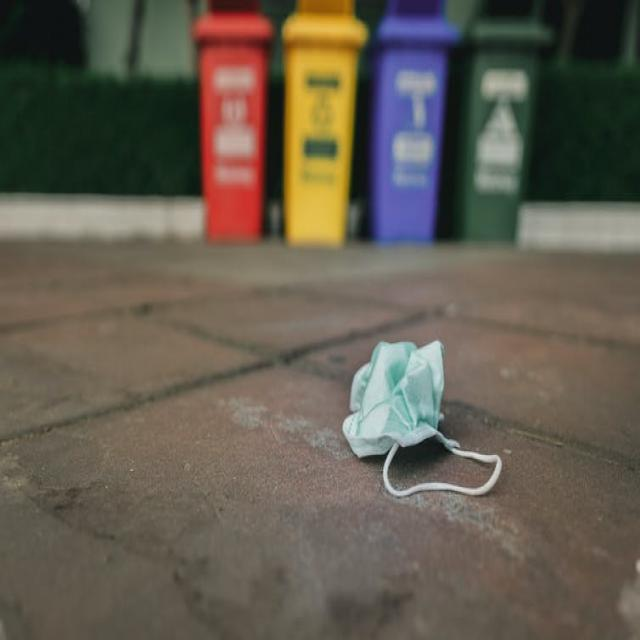face mask: (346, 330, 504, 500)
